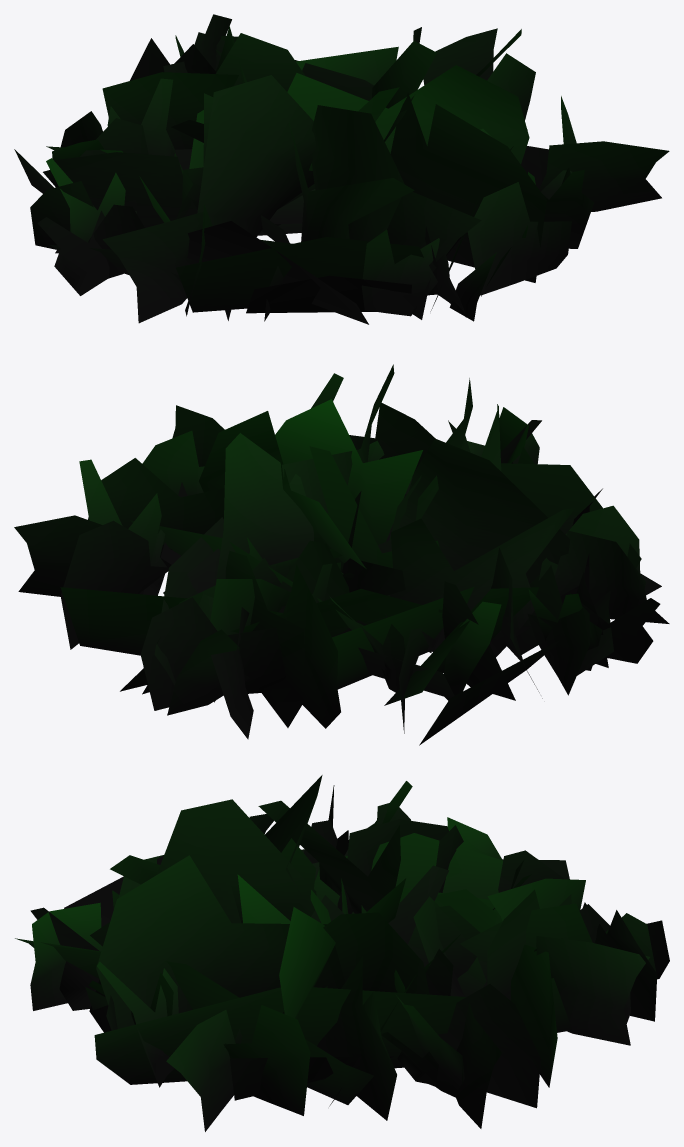
File: Grass Mixed_K.fbx
The picture shows the model from 3 angles, top to bottom: view 1: azimuth 30°, elevation 25°; view 2: azimuth 150°, elevation 25°; view 3: azimuth 270°, elevation 25°; orthographic projection. The views are drawn at different scales.
Visible parts, largest first — view 1: Grass MixedK_F_LOD0, Grass MixedK_G_LOD0; view 2: Grass MixedK_F_LOD0, Grass MixedK_G_LOD0; view 3: Grass MixedK_F_LOD0, Grass MixedK_G_LOD0.
Part boxes in pixels (x1,y1,x2,y2): Grass MixedK_F_LOD0: (30,14,669,323); Grass MixedK_G_LOD0: (14,32,548,324); Grass MixedK_F_LOD0: (14,364,669,739); Grass MixedK_G_LOD0: (60,463,641,745); Grass MixedK_F_LOD0: (30,775,669,1131); Grass MixedK_G_LOD0: (15,833,571,1106).
Size of what is drawn, in the model's own units: 2.21 by 0.7559 by 2.18.
